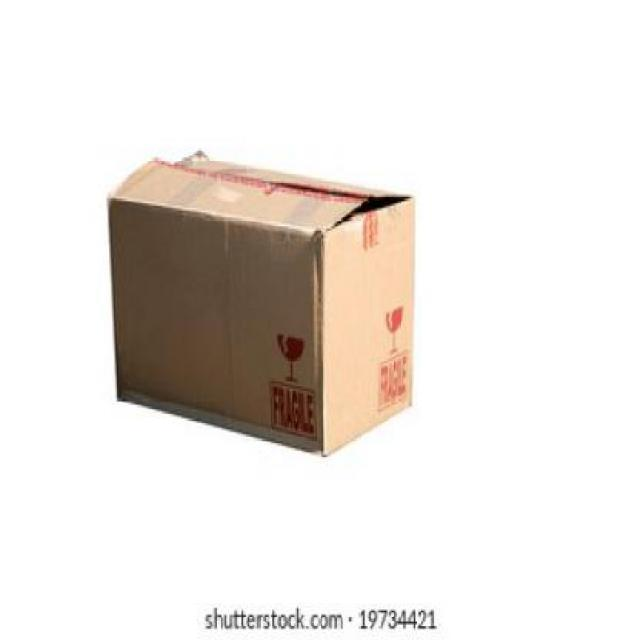box: (98, 145, 418, 463)
